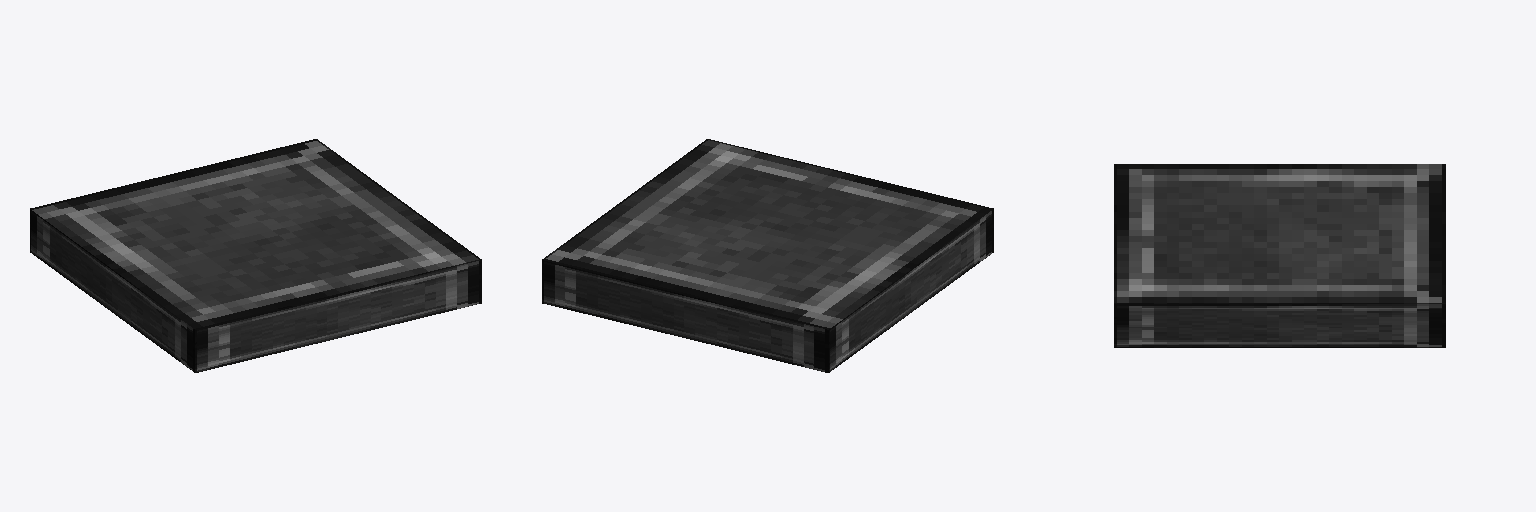
3 views of the same model, side by side, from view 1: azimuth 30°, elevation 25°; view 2: azimuth 150°, elevation 25°; view 3: azimuth 270°, elevation 25° (orthographic).
Visible parts, largest first — view 1: Cube; view 2: Cube; view 3: Cube.
Boxes of the visible parts, x1,y1,x2,y2 form: Cube: [30, 139, 481, 372]; Cube: [542, 139, 993, 372]; Cube: [1114, 164, 1445, 347].
Size of the model in its own units: 2 by 0.2887 by 2.
1 materials, 1 textured.